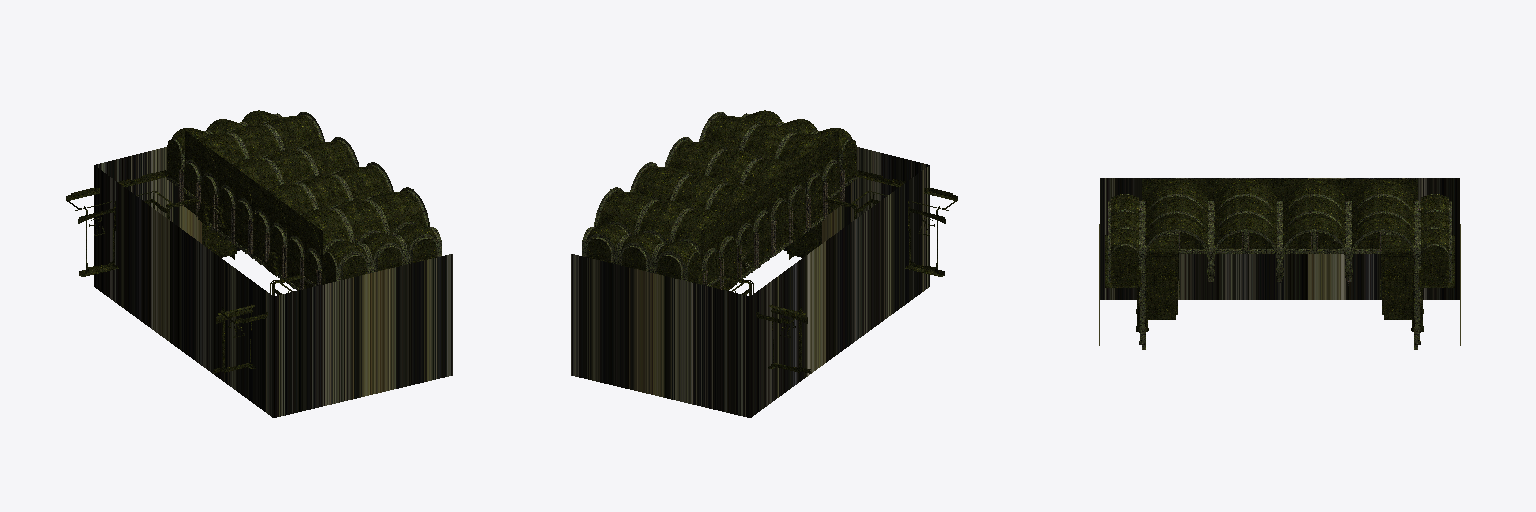
3 views of the same model, side by side, from view 1: azimuth 30°, elevation 25°; view 2: azimuth 150°, elevation 25°; view 3: azimuth 270°, elevation 25° (orthographic).
Parts seen in each view (by area): view 1: mesh0, mesh7, mesh4, mesh6, mesh1, mesh3; view 2: mesh0, mesh7, mesh4, mesh6, mesh1, mesh3; view 3: mesh7, mesh0, mesh4, mesh3, mesh8.
Part boxes in pixels (x1,y1,x2,y2): mesh0: (94, 147, 452, 417); mesh7: (167, 110, 437, 288); mesh4: (166, 112, 441, 290); mesh6: (66, 170, 303, 373); mesh1: (179, 169, 320, 289); mesh3: (197, 202, 275, 275); mesh0: (571, 147, 929, 417); mesh7: (586, 110, 856, 289); mesh4: (582, 112, 857, 286); mesh6: (719, 170, 957, 373); mesh1: (703, 169, 844, 289); mesh3: (724, 218, 821, 290); mesh7: (1111, 179, 1448, 332); mesh0: (1099, 178, 1460, 345); mesh4: (1108, 194, 1451, 349); mesh3: (1138, 234, 1421, 314); mesh8: (1105, 235, 1454, 287).
Size of the model in its own units: 19.82 by 13.67 by 28.43.
Materials: 9 (6 with a texture image).